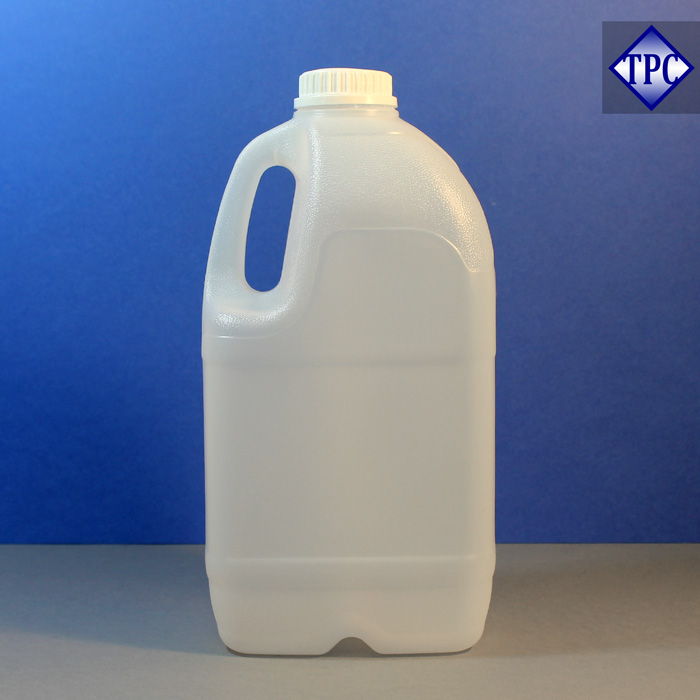Rec_Plastic: (178, 54, 507, 653)
